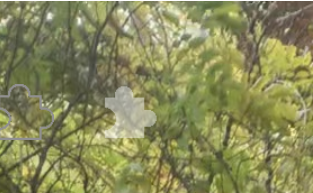target: (101, 83, 162, 145)
